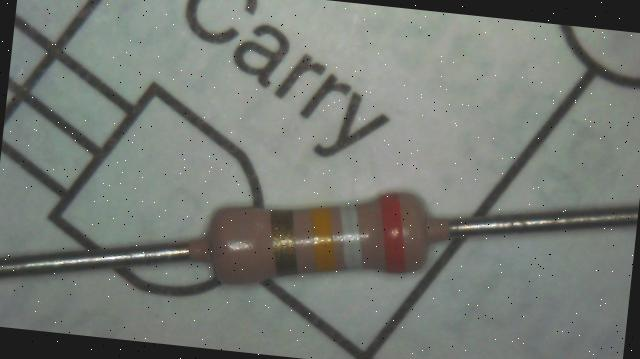gold: (262, 205, 304, 277)
orange: (372, 191, 413, 272)
resistor: (184, 170, 453, 305)
white: (336, 203, 370, 269)
yellow: (304, 205, 339, 271)
